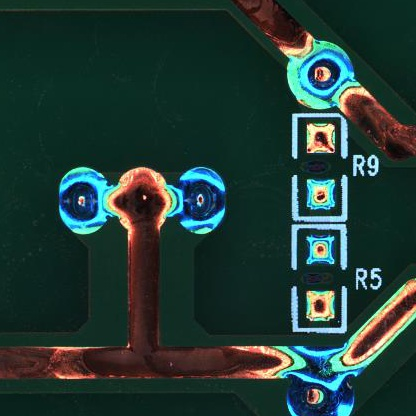spot: (284, 40, 356, 110), (58, 166, 109, 237), (175, 163, 225, 235), (285, 367, 358, 416)
